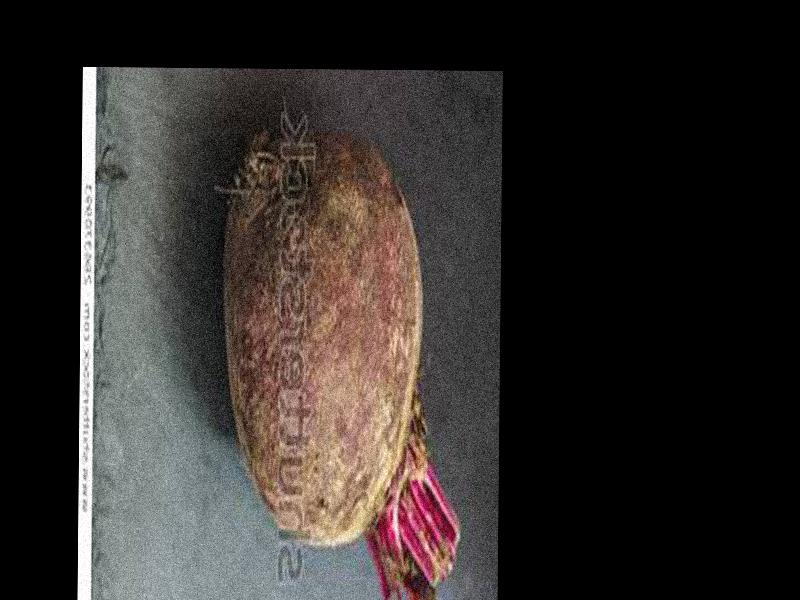Beet: (220, 127, 461, 600)
